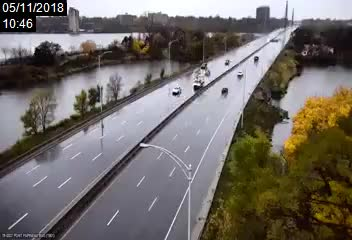personal_car: (172, 85, 181, 96), (221, 86, 229, 95), (224, 58, 231, 66), (237, 70, 244, 77)
truck: (192, 75, 205, 89)
